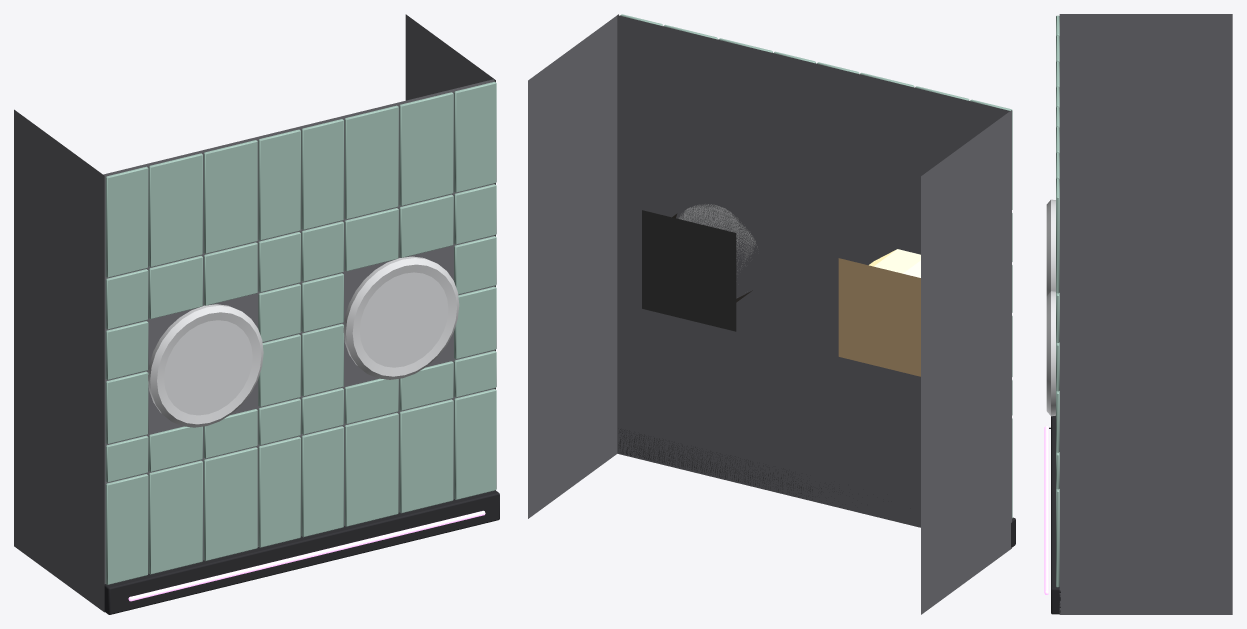
The model's file is retro_upper_3b.glb.
3 views of the same model, side by side, from view 1: azimuth 30°, elevation 25°; view 2: azimuth 150°, elevation 25°; view 3: azimuth 270°, elevation 25° (orthographic). The views are drawn at different scales.
Visible parts, largest first — view 1: retro_upper_3b; view 2: retro_upper_3b; view 3: retro_upper_3b.
Boxes of the visible parts, left/top/right/bottom form: retro_upper_3b: left=14, top=14, right=499, bottom=614; retro_upper_3b: left=528, top=14, right=1015, bottom=614; retro_upper_3b: left=1044, top=14, right=1232, bottom=614.
Bounding box in the file's own units: 3 × 3.2 × 1.31.
